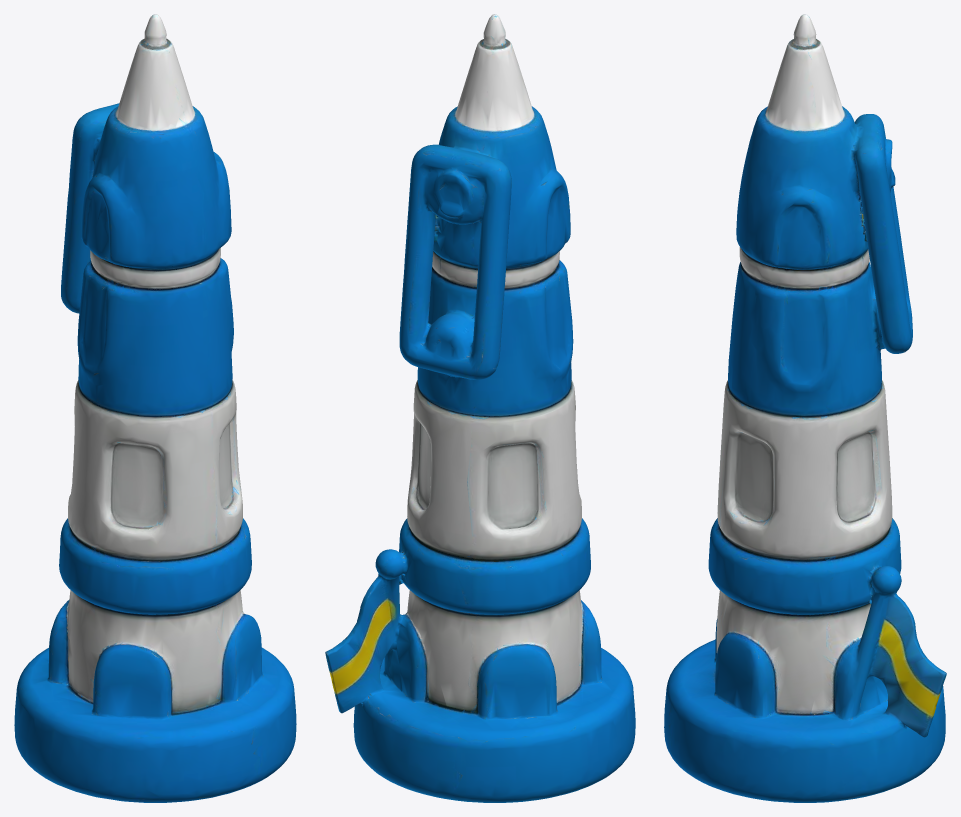
Rendered from pentower.glb.
3 views of the same model, side by side, from view 1: azimuth 30°, elevation 25°; view 2: azimuth 150°, elevation 25°; view 3: azimuth 270°, elevation 25° (orthographic).
Visible parts, largest first — view 1: Mesh_0; view 2: Mesh_0; view 3: Mesh_0.
Part boxes in pixels (<box>): Mesh_0: <box>14,14,296,802</box>; Mesh_0: <box>325,14,635,802</box>; Mesh_0: <box>664,14,946,802</box>.
Size of the model in its own units: 0.6637 by 1.91 by 0.6665.
1 material, 1 textured.
